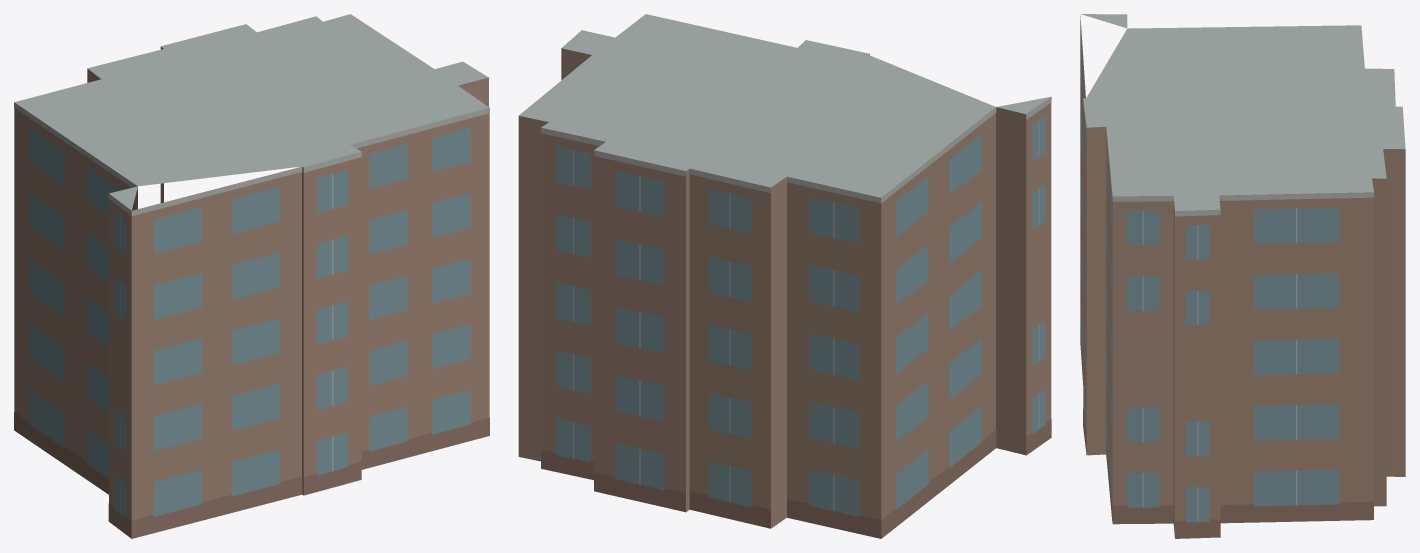
Rendered from survey-upis-32587446.glb.
The picture shows the model from 3 angles, left to right: view 1: azimuth 30°, elevation 25°; view 2: azimuth 150°, elevation 25°; view 3: azimuth 270°, elevation 25°; orthographic projection. The views are drawn at different scales.
Visible parts, largest first — view 1: survey-upis-32587446.tmp; view 2: survey-upis-32587446.tmp; view 3: survey-upis-32587446.tmp.
Boxes of the visible parts, x1,y1,x2,y2 form: survey-upis-32587446.tmp: (14, 14, 489, 538); survey-upis-32587446.tmp: (518, 14, 1051, 538); survey-upis-32587446.tmp: (1080, 14, 1405, 538).
Size of the model in its own units: 19.1 by 14.8 by 13.32.
